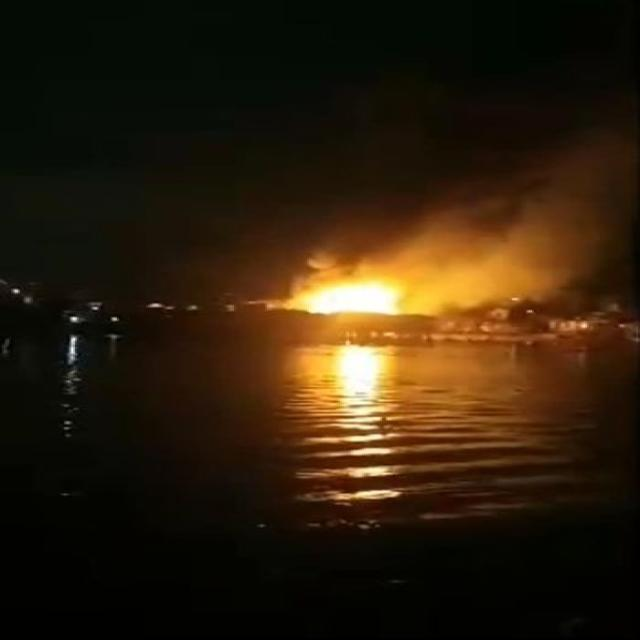Fire: (300, 274, 403, 314)
Smoke: (322, 149, 608, 308)
